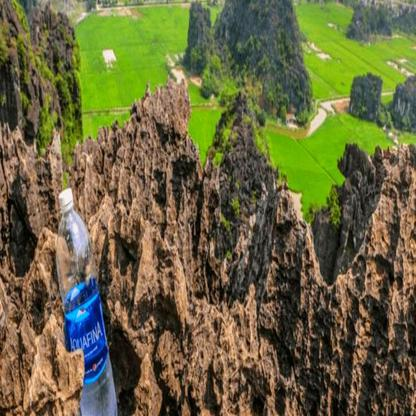plastic bottle: (56, 190, 120, 415)
